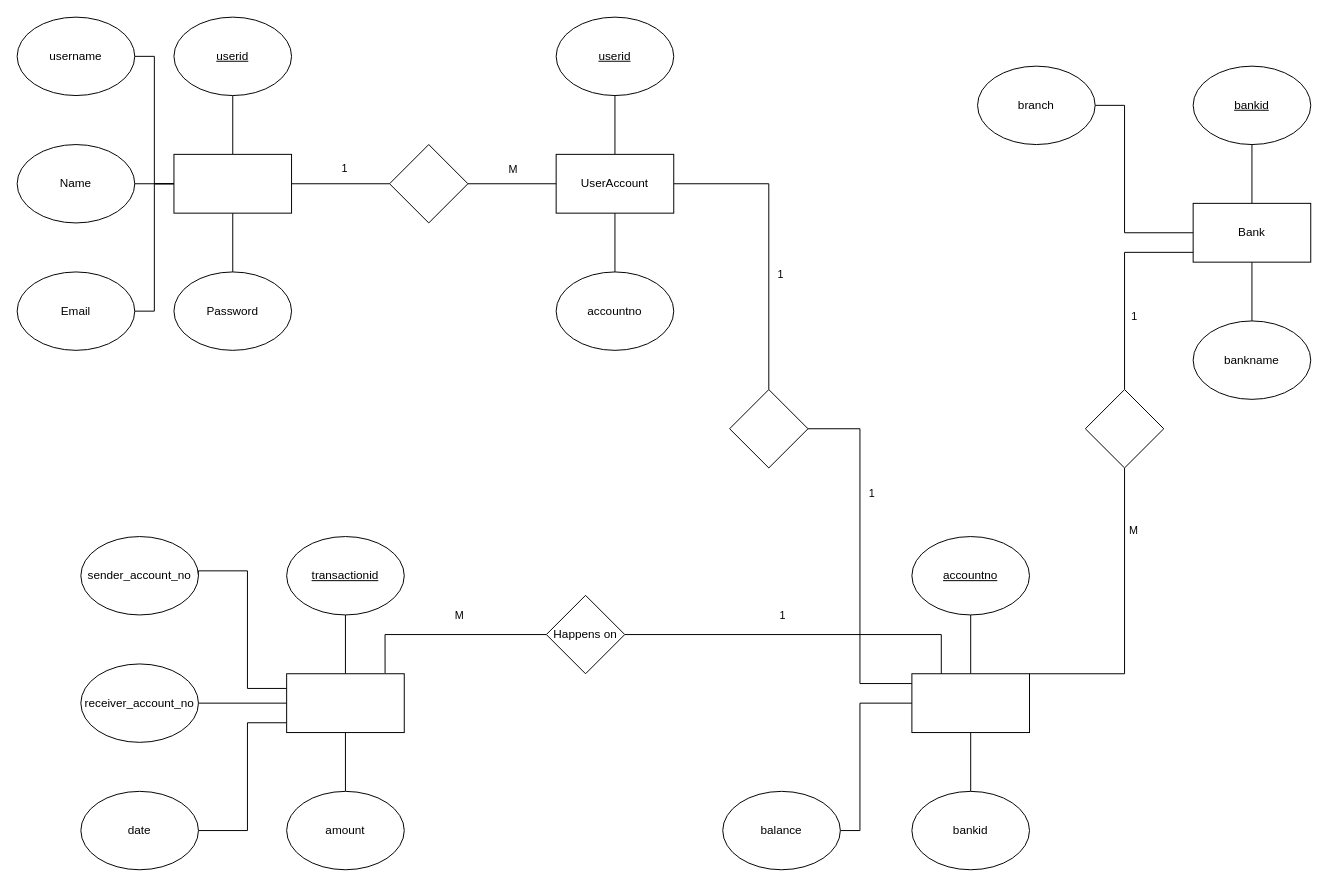
This 1328x887 diagram has some shape labels left out. The centre of each missing label's shape, as x and y in pixels:
"Account" belongs at point (970, 703).
"Be longs" belongs at point (1124, 428).
"Contains" belongs at point (768, 428).
"Has" belongs at point (428, 183).
"Transactions" belongs at point (345, 703).
"User" belongs at point (232, 183).
